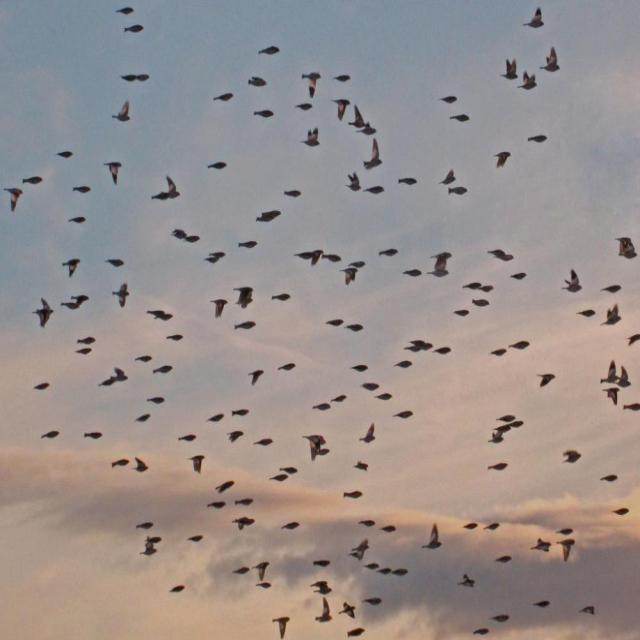bird: (302, 432, 330, 461), (153, 176, 182, 202), (363, 139, 385, 172), (421, 523, 443, 555), (296, 248, 330, 268), (558, 530, 578, 564), (300, 70, 324, 98), (34, 300, 56, 330), (120, 68, 152, 88), (344, 260, 370, 284), (562, 268, 584, 296), (616, 238, 640, 263), (4, 185, 26, 212), (541, 46, 562, 74), (524, 7, 546, 33), (234, 284, 256, 310), (430, 250, 452, 276), (347, 106, 367, 134), (599, 361, 621, 386), (105, 158, 125, 185), (331, 95, 351, 122), (113, 280, 133, 307), (273, 612, 292, 640), (600, 305, 622, 329), (172, 228, 201, 246), (301, 126, 322, 150), (62, 293, 90, 311), (268, 468, 297, 485), (255, 210, 282, 228), (347, 541, 370, 562), (114, 100, 134, 124), (315, 600, 333, 626), (147, 307, 176, 323), (62, 256, 83, 278), (143, 535, 164, 557), (518, 72, 538, 95), (488, 248, 514, 265), (499, 59, 518, 82), (403, 338, 432, 353), (309, 578, 333, 596), (231, 515, 256, 532), (359, 426, 378, 448), (618, 363, 634, 389), (344, 170, 362, 193), (602, 388, 622, 408), (439, 167, 460, 186), (562, 448, 584, 466), (258, 44, 282, 60), (75, 334, 99, 350), (190, 452, 208, 473), (497, 413, 524, 427), (393, 407, 416, 423), (205, 250, 228, 266), (490, 429, 509, 448), (537, 372, 557, 390), (212, 299, 230, 319), (495, 151, 513, 171), (248, 367, 265, 388), (97, 374, 120, 389), (74, 342, 97, 357), (458, 574, 478, 591), (152, 364, 176, 378), (216, 90, 237, 106), (216, 478, 237, 494), (22, 171, 44, 186), (110, 456, 132, 471), (446, 184, 468, 199), (340, 602, 357, 621), (255, 562, 272, 581), (601, 283, 624, 297), (488, 461, 511, 475), (463, 278, 486, 292), (233, 496, 256, 510), (106, 255, 126, 271), (492, 552, 513, 567), (234, 318, 256, 332), (270, 292, 292, 306), (310, 401, 332, 415), (133, 458, 150, 476), (113, 367, 130, 385), (533, 539, 552, 555), (227, 430, 246, 446), (333, 70, 352, 86), (345, 625, 365, 640), (256, 109, 276, 124), (366, 183, 386, 198), (377, 245, 400, 258), (492, 612, 513, 626), (255, 436, 276, 450), (116, 5, 137, 19), (124, 22, 145, 36), (73, 183, 94, 197), (325, 315, 346, 329), (40, 430, 62, 443), (247, 76, 266, 91), (364, 594, 384, 608), (148, 394, 168, 408), (179, 432, 199, 446), (450, 112, 470, 126), (342, 488, 362, 502), (528, 132, 548, 146), (344, 323, 364, 337), (134, 518, 154, 532), (451, 306, 471, 320), (282, 519, 302, 533), (208, 499, 228, 513), (324, 252, 344, 266), (403, 267, 424, 280), (361, 380, 382, 393), (511, 339, 532, 352), (601, 472, 619, 487), (533, 596, 552, 610), (167, 582, 186, 596), (379, 522, 398, 536), (311, 556, 330, 570), (391, 566, 410, 580), (284, 188, 304, 201), (206, 412, 226, 425), (209, 160, 229, 173), (84, 430, 104, 443), (472, 297, 492, 310), (134, 411, 152, 425), (484, 520, 502, 534), (472, 624, 490, 638), (232, 564, 250, 578), (330, 394, 348, 408), (134, 352, 153, 365), (349, 362, 368, 375), (352, 460, 368, 475), (238, 238, 258, 250), (623, 399, 640, 413), (491, 346, 509, 359), (68, 215, 86, 228), (232, 406, 250, 419), (56, 149, 74, 162), (440, 93, 458, 106), (577, 307, 596, 319), (34, 381, 53, 393), (612, 507, 631, 519), (396, 360, 415, 372), (399, 175, 418, 187), (360, 517, 379, 529), (277, 362, 296, 374), (580, 606, 597, 619), (435, 344, 452, 357), (166, 332, 184, 344), (463, 520, 481, 532), (376, 566, 394, 578), (625, 333, 639, 348), (509, 271, 528, 282), (257, 578, 273, 591), (296, 100, 313, 112), (365, 560, 381, 572), (376, 392, 392, 404), (189, 535, 205, 546)
